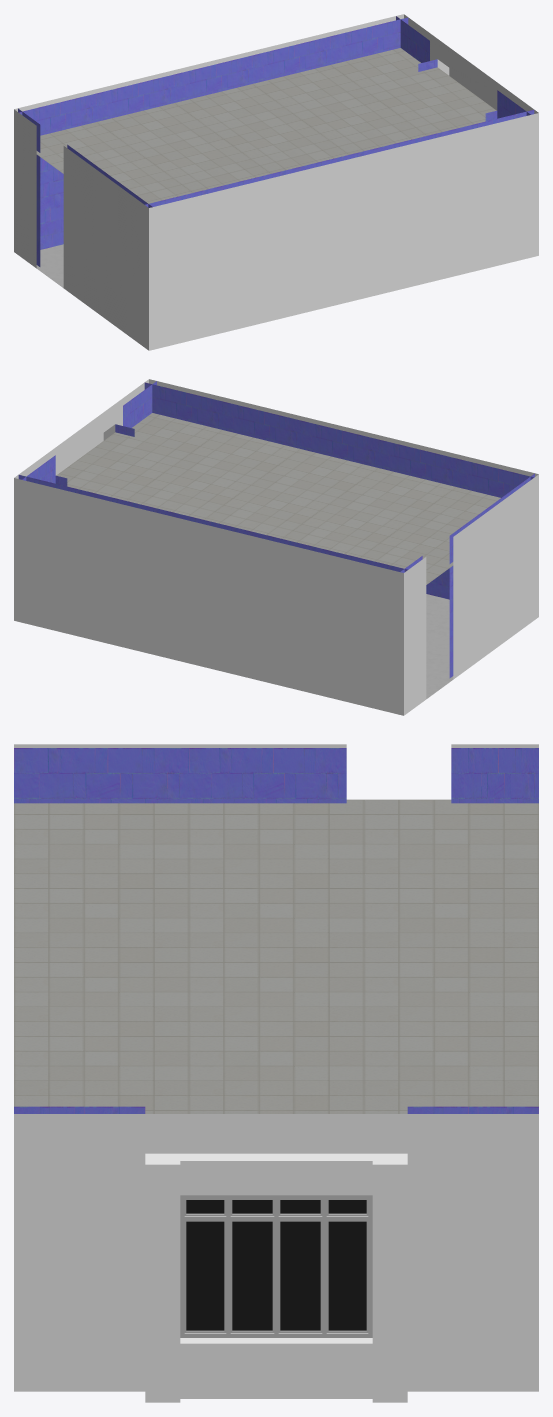
The model's file is M_Toilet.fbx.
3 renders of one model, top to bottom at view 1: azimuth 30°, elevation 25°; view 2: azimuth 150°, elevation 25°; view 3: azimuth 270°, elevation 25°, orthographic. The views are drawn at different scales.
Visible parts, largest first — view 1: ToiletFrame; view 2: ToiletFrame; view 3: ToiletFrame.
Part boxes in pixels (box(x1,y1,x2,y2)): ToiletFrame: box(14, 14, 538, 350); ToiletFrame: box(14, 379, 538, 715); ToiletFrame: box(14, 744, 538, 1402).
Size of the model in its own units: 1030 by 350 by 600.
